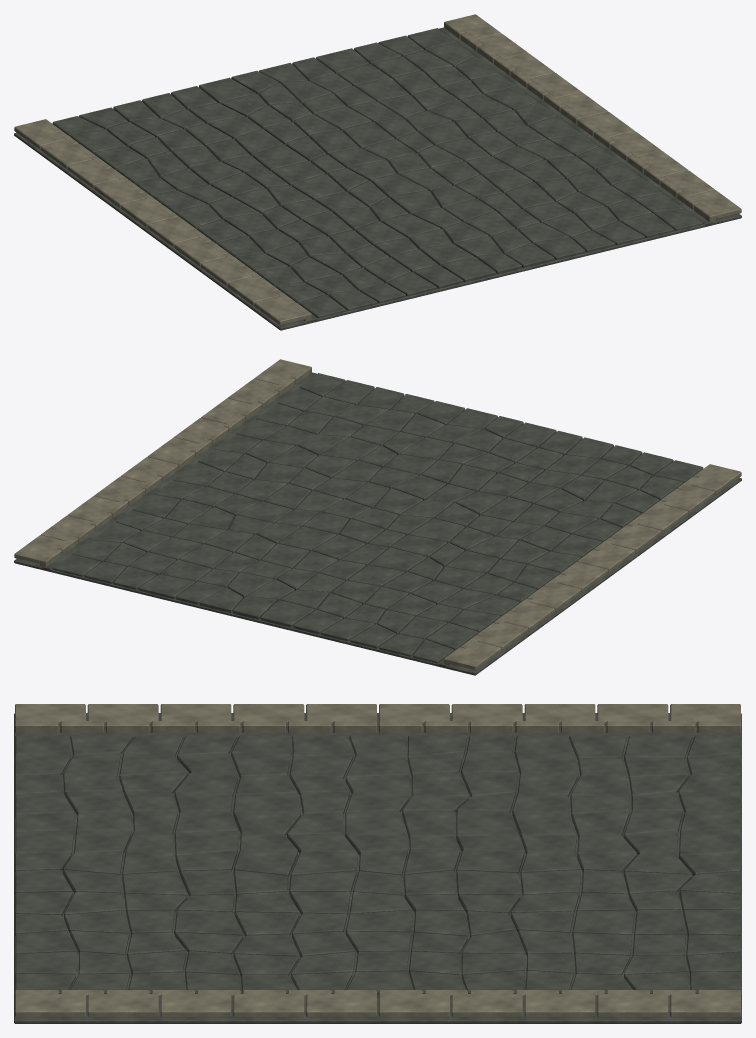
Rendered from basalt_road_lod0.glb.
The picture shows the model from 3 angles, top to bottom: view 1: azimuth 30°, elevation 25°; view 2: azimuth 150°, elevation 25°; view 3: azimuth 270°, elevation 25°; orthographic projection. The views are drawn at different scales.
Visible parts, largest first — view 1: basalt_road_lod0; view 2: basalt_road_lod0; view 3: basalt_road_lod0.
Boxes of the visible parts, x1,y1,x2,y2 form: basalt_road_lod0: (14,14,741,330); basalt_road_lod0: (14,359,741,675); basalt_road_lod0: (14,704,741,1023).
Bounding box in the file's own units: 8 × 0.16 × 8.
Materials: 2 (2 with a texture image).
